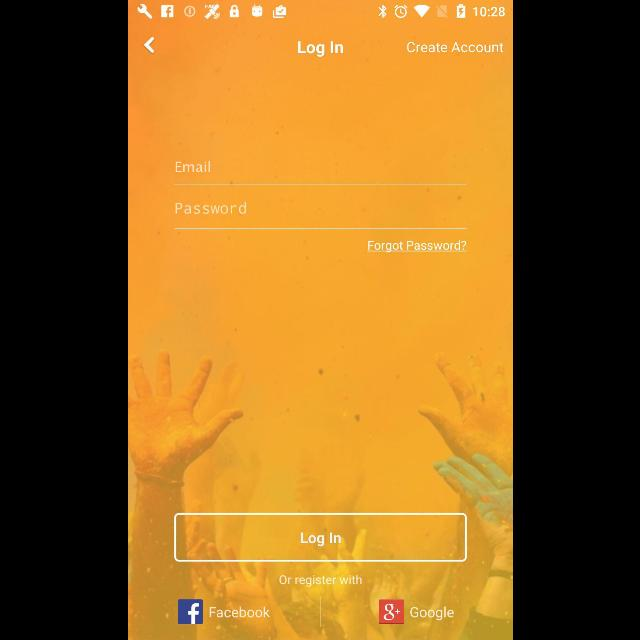backgroundimage: (128, 22, 512, 640)
icon: (378, 600, 404, 624), (178, 600, 202, 624), (142, 36, 154, 54)
input: (174, 202, 466, 230), (174, 161, 466, 185)
text: (366, 241, 466, 253), (406, 42, 502, 54), (278, 575, 362, 587), (174, 202, 246, 214), (208, 606, 270, 618), (297, 41, 343, 57), (409, 606, 453, 620), (175, 162, 209, 172)
textbutton: (174, 512, 466, 562)
uppertaskbar: (128, 1, 512, 23)
